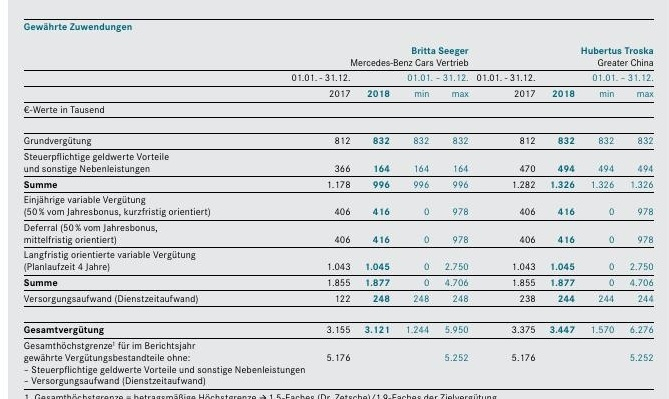table: (0, 0, 669, 399)
